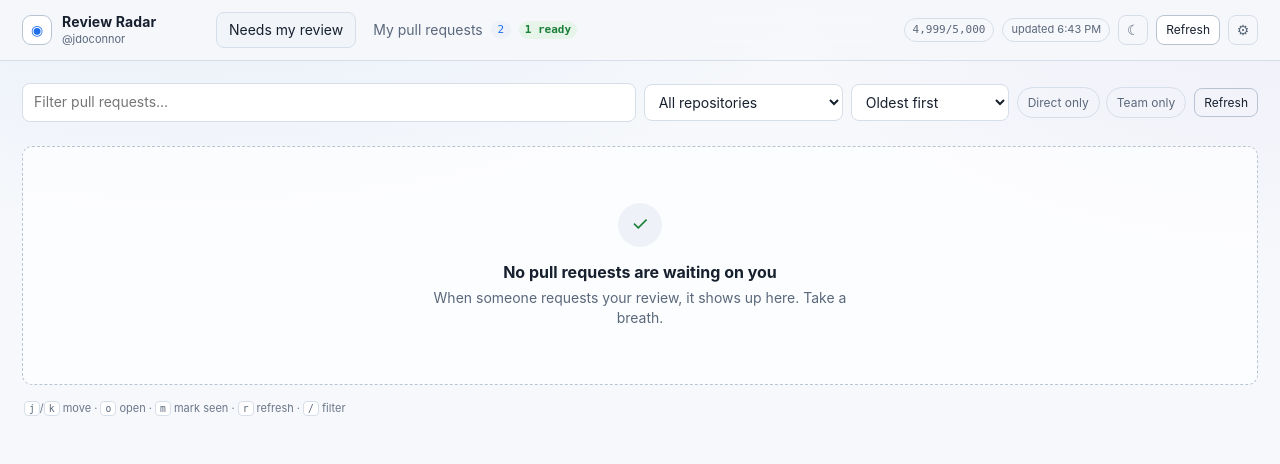
Test: pull requests on a non-stable base › is removed by the ready-to-merge filter
Click the button with test id "tab-mine" at (475, 30), box [360,12,590,48]
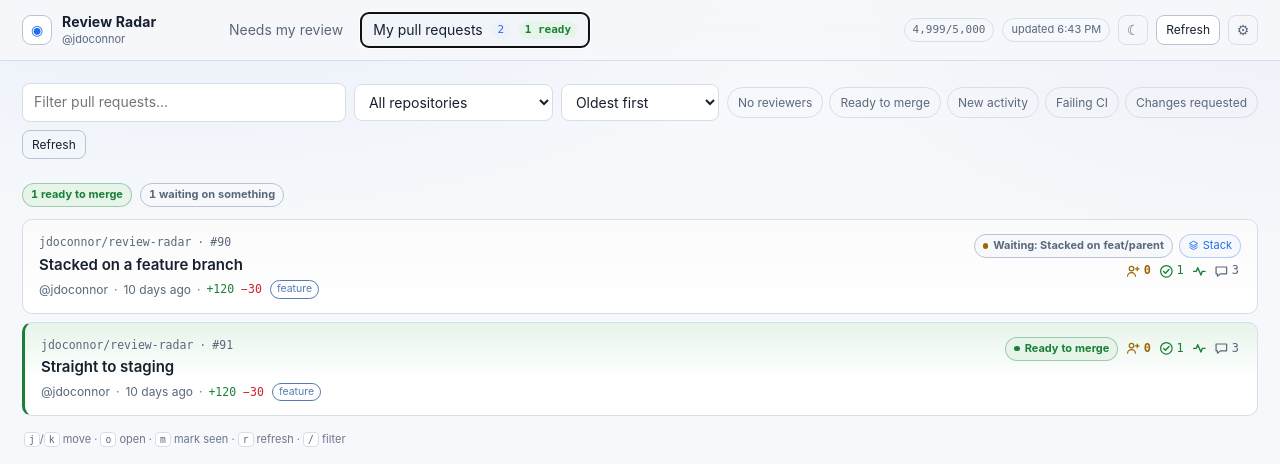
Expected: the link "Stacked on a feature branch" is shown, [39,255,243,274]
Expected: the link "Straight to staging" is shown, [41,357,174,376]
Click the button with test id "filter-ready" at (885, 102), box [830,87,941,118]
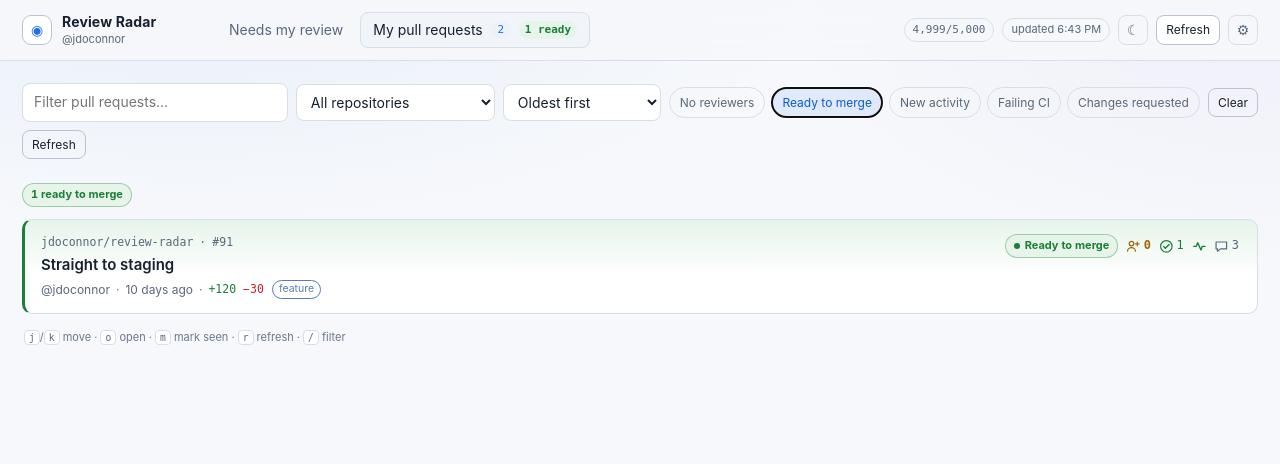
Expected: the link "Straight to staging" is shown, [41,255,174,274]
Expected: the link "Stacked on a feature branch" is gone
